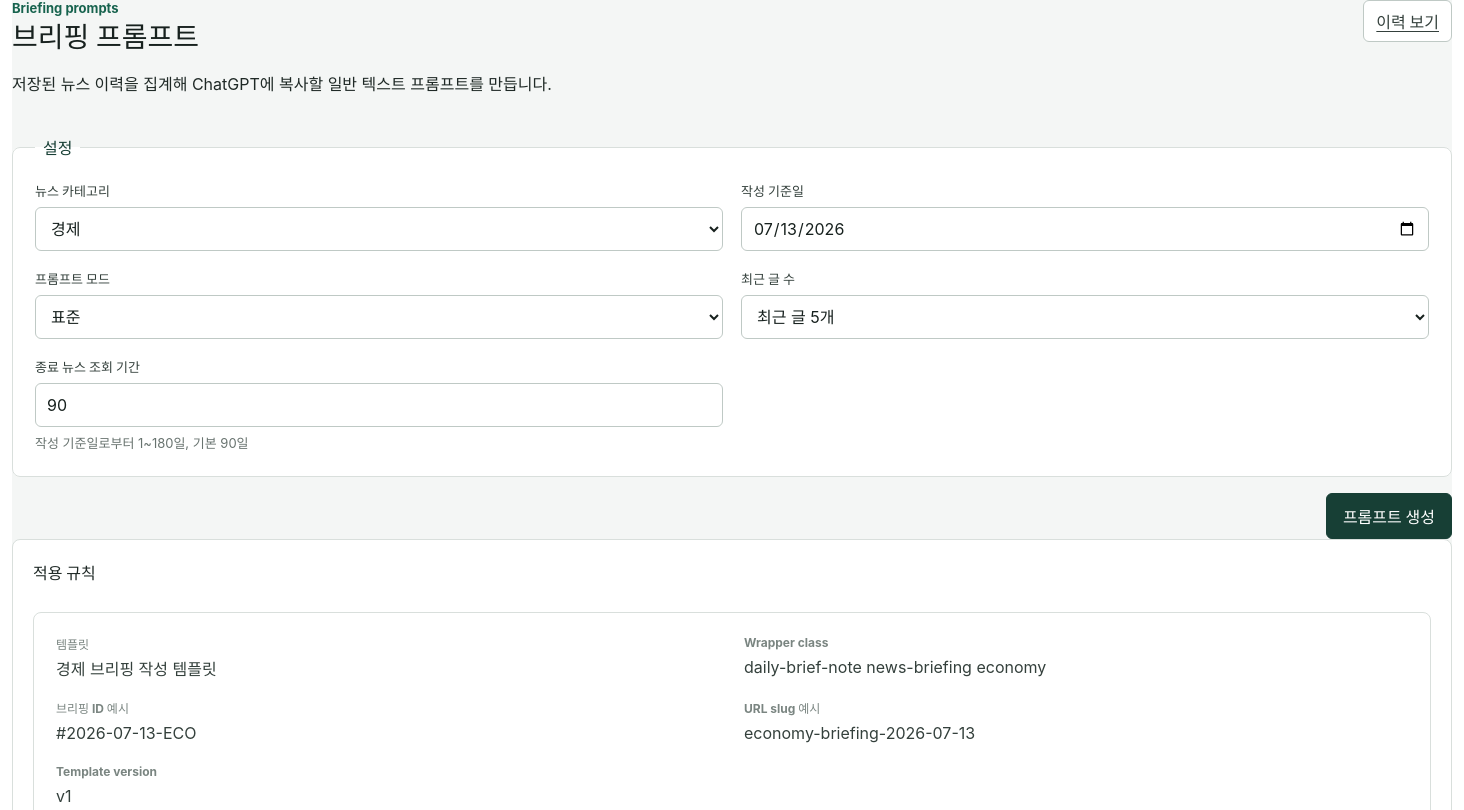
Test: BriefingPromptsPage › renders empty aggregate results without blocking generation
Click the button "프롬프트 생성" at (1389, 516), box [1326, 492, 1452, 538]
(page scrolled)
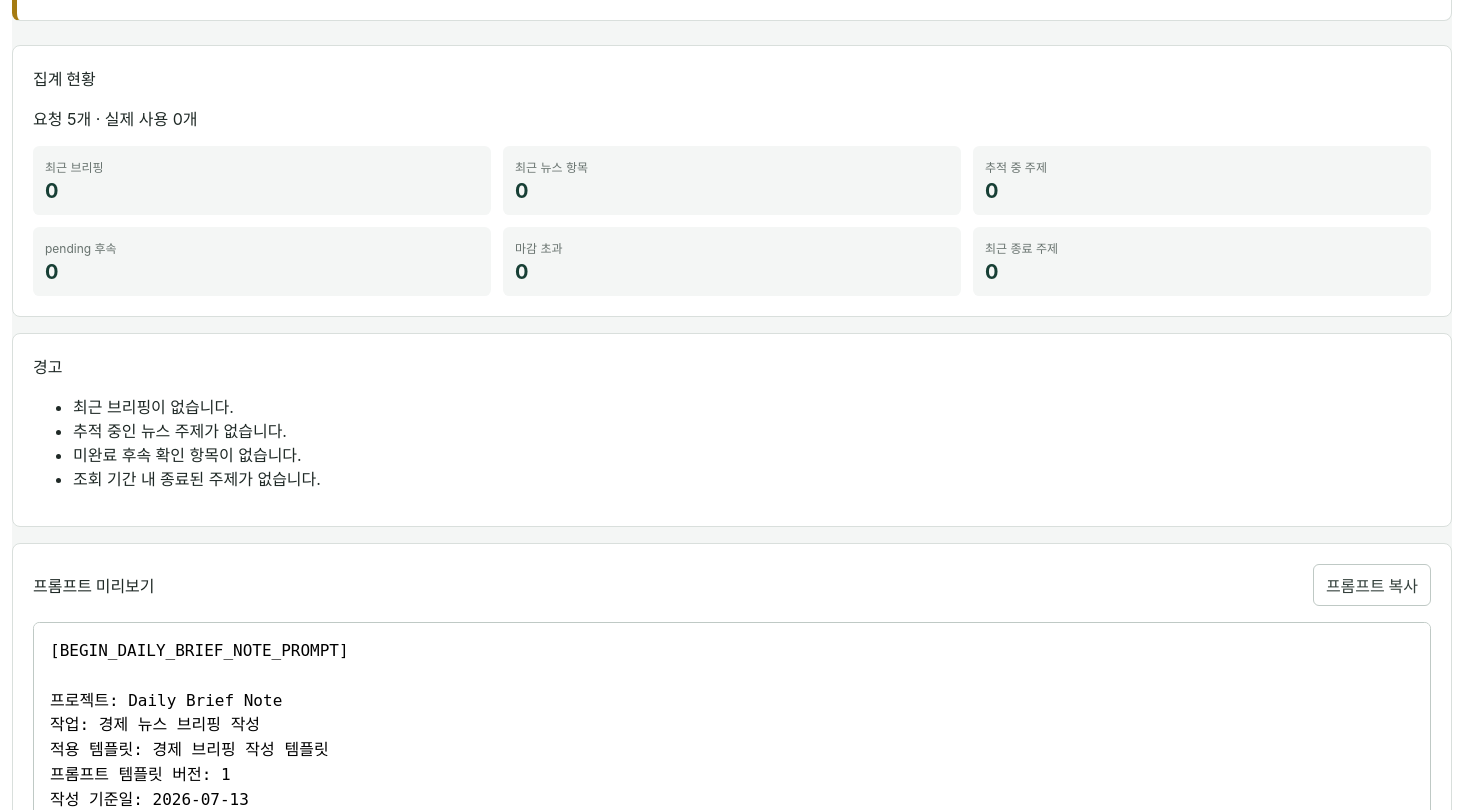
Expected: the list item "최근 브리핑이 없습니다." is shown, [73, 397, 234, 417]
